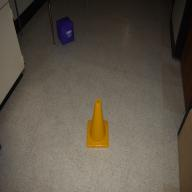cone: (86, 98, 110, 148)
cube: (56, 16, 75, 46)
